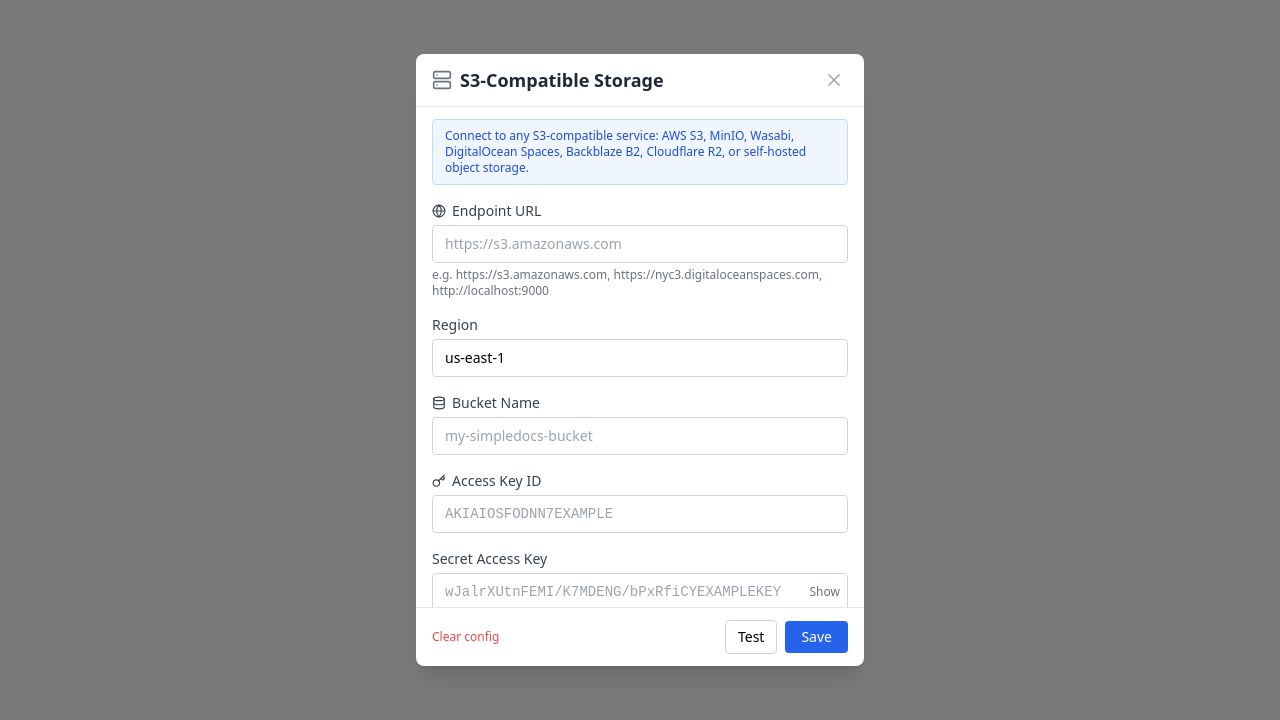
S3ConfigModal › test connection › shows validation error when fields incomplete
Click the button "Test".
click(751, 637)  # box left=725, top=620, right=778, bottom=654
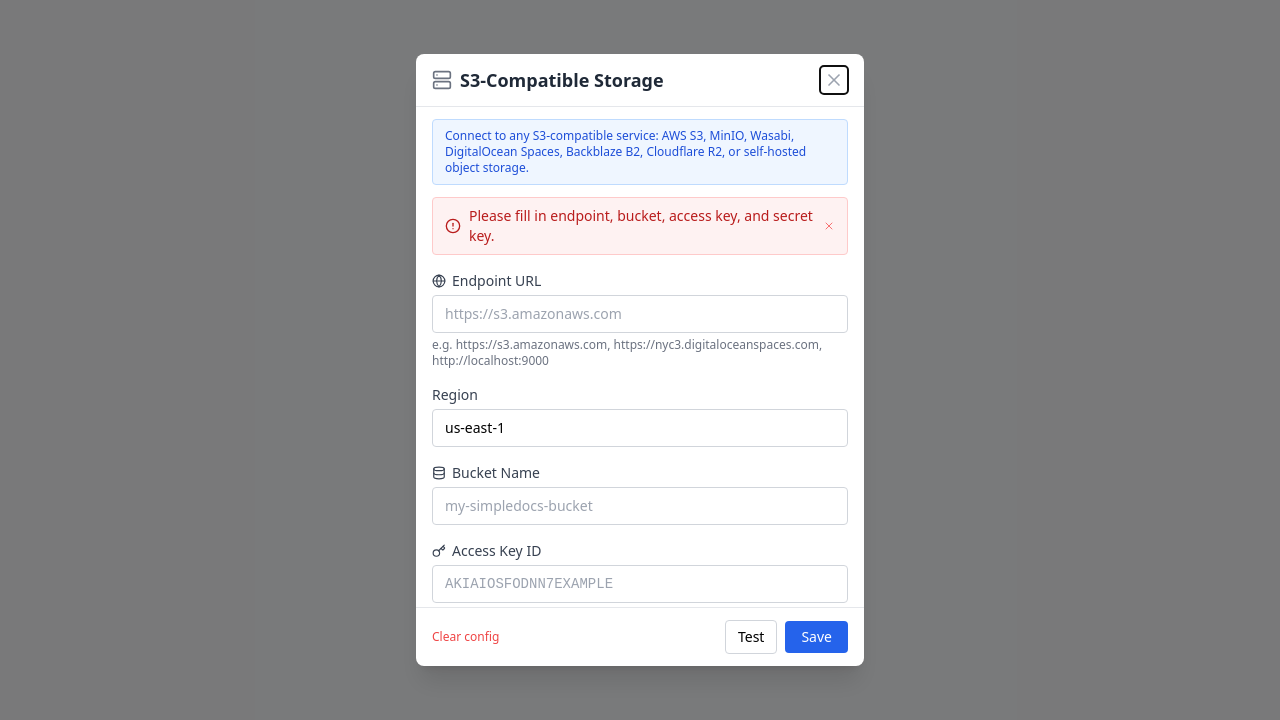
Now the text "Please fill in endpoint, bucket, access key, and secret key." is shown, box left=469, top=206, right=815, bottom=246
